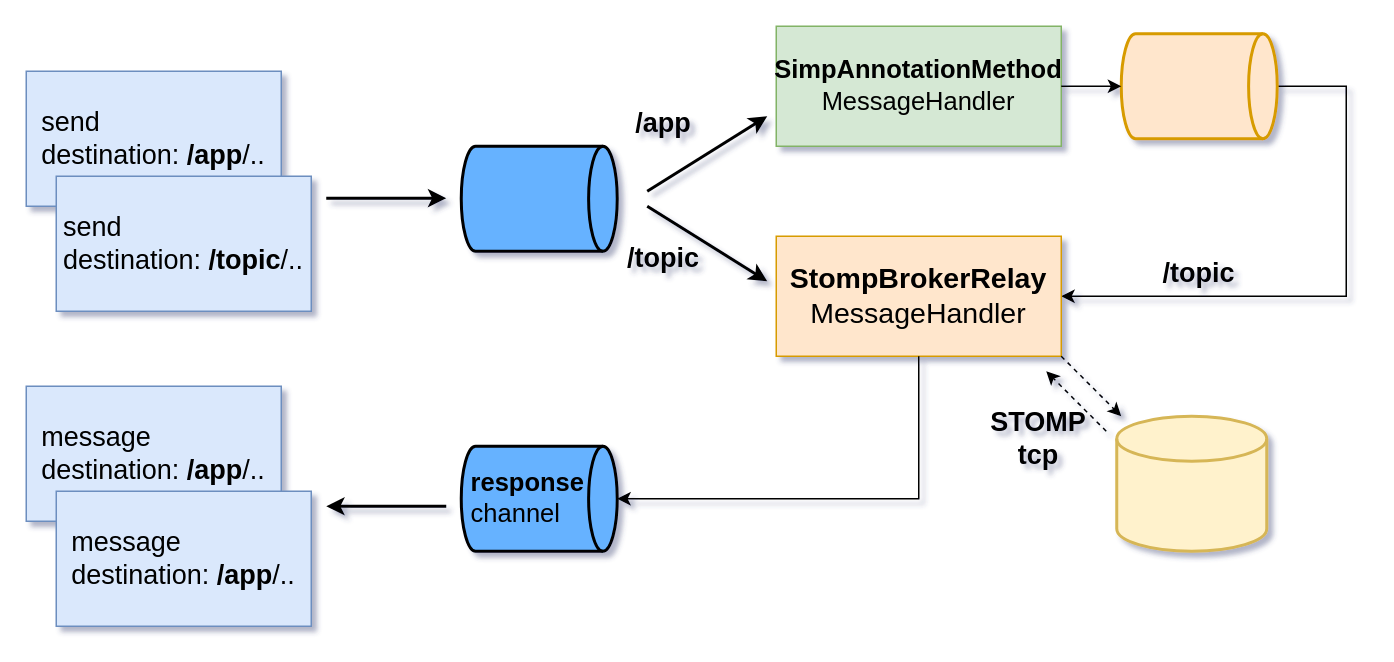
The diagram is 1394 pixels wide and 662 high, and some of its shapes have lost their labels. The box of each missing label's shape, as (x1, y1, x2, y2) in pixels:
broker channel: (1119, 32, 1278, 140)
Message Broker: (1114, 414, 1268, 552)
request channel: (459, 144, 618, 252)
